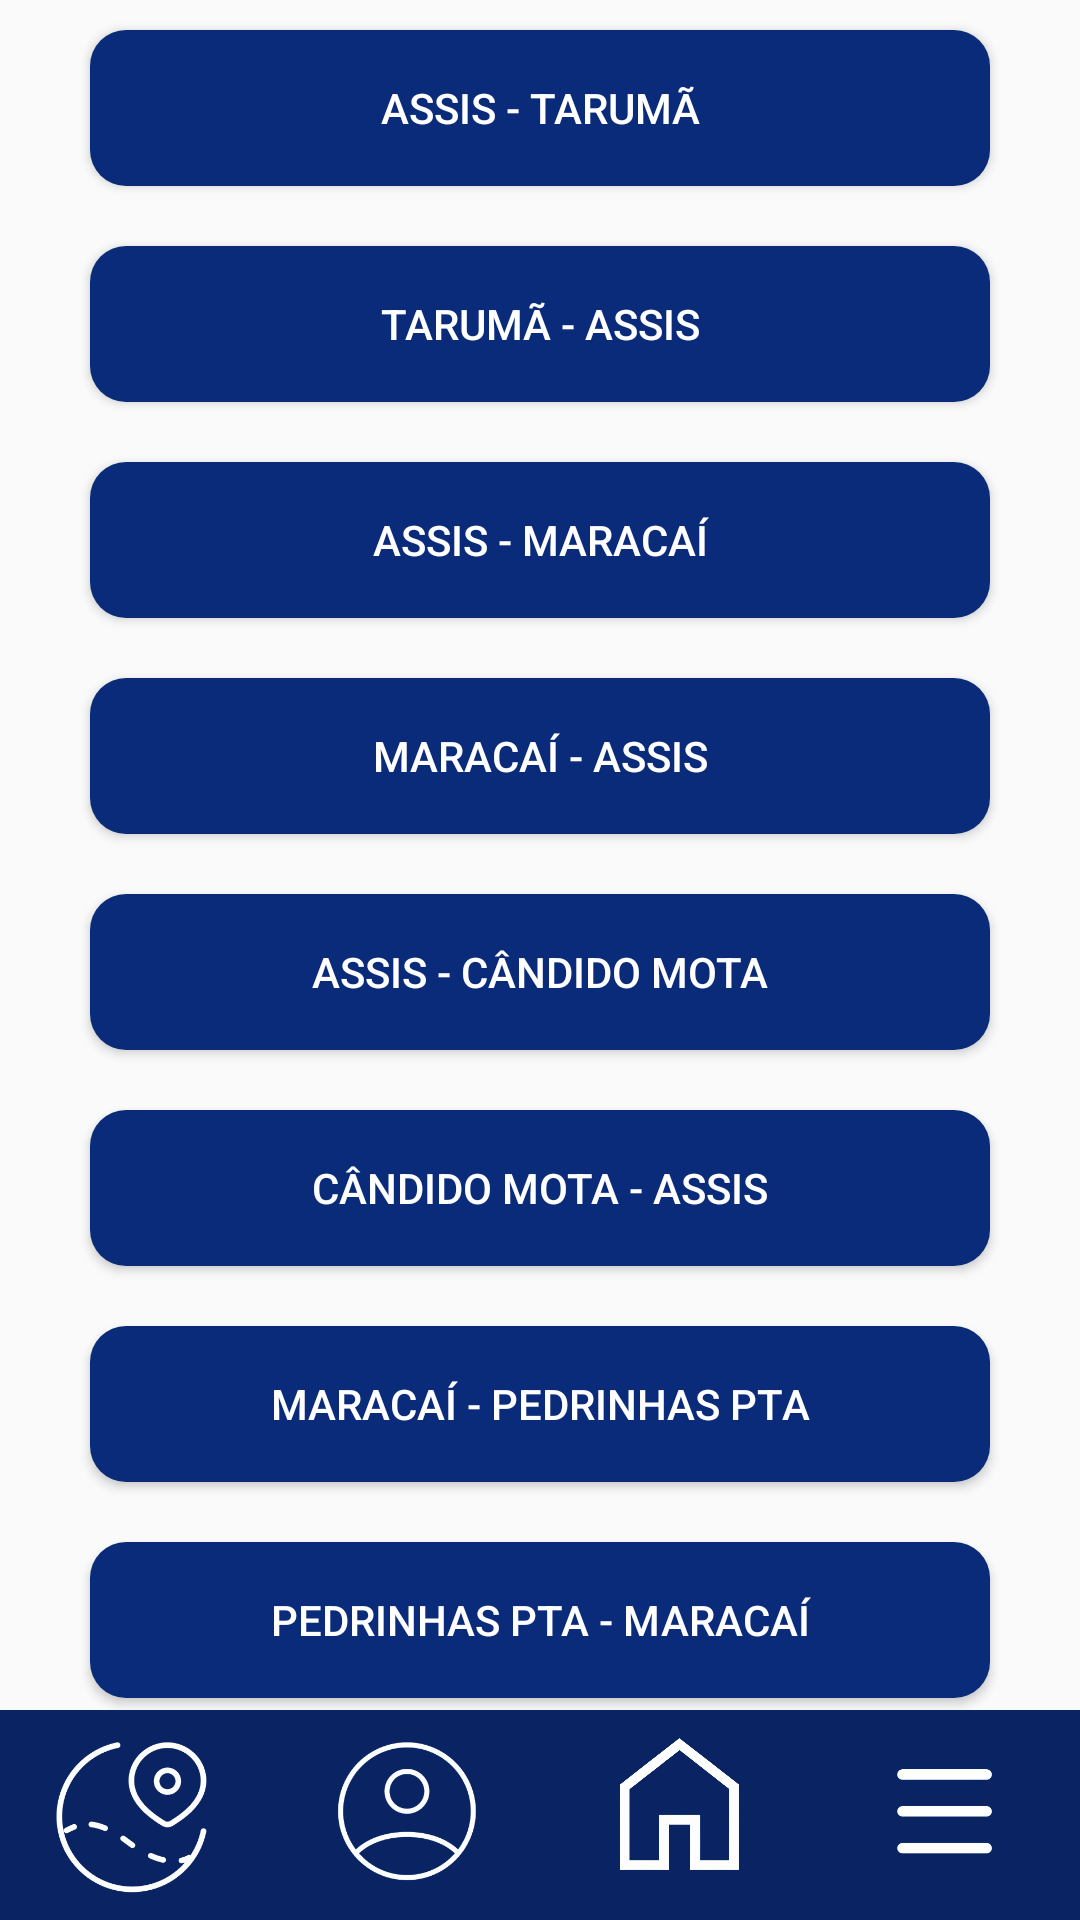

Icon bounding boxes for this 1080px×1920px phone screenshot, format [left=x1, top=y1, right=x2, bottom=y2]:
Mapa: [left=56, top=1742, right=207, bottom=1893]
Menu: [left=897, top=1769, right=992, bottom=1854]
Perfil: [left=338, top=1742, right=476, bottom=1880]
